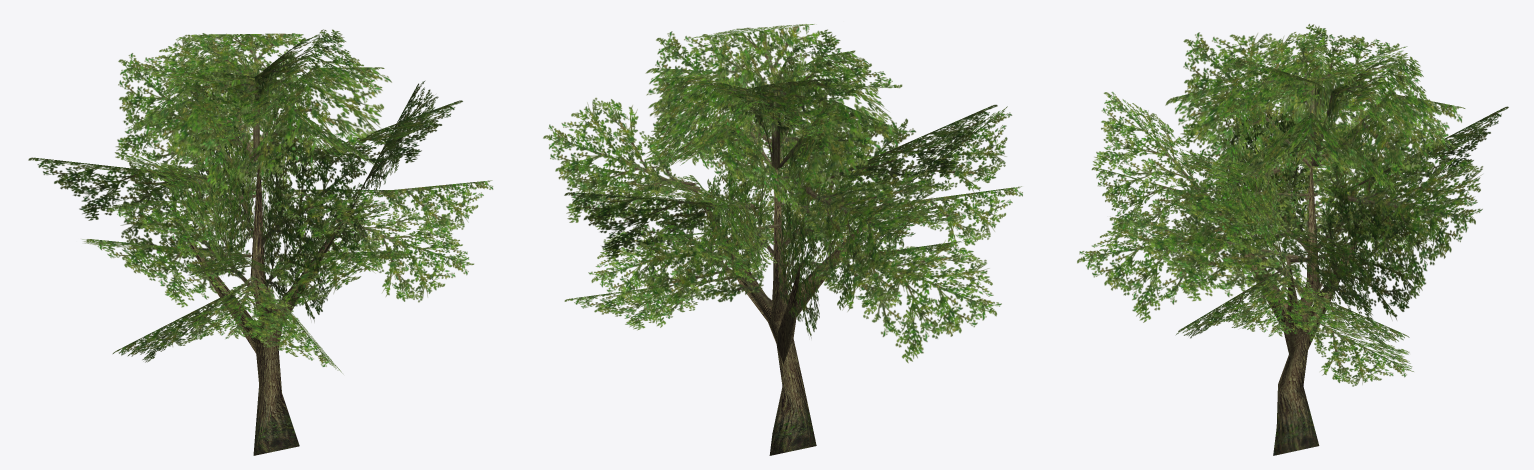
The model's file is ti_tree_02.glb.
3 views of the same model, side by side, from view 1: azimuth 30°, elevation 25°; view 2: azimuth 150°, elevation 25°; view 3: azimuth 270°, elevation 25° (orthographic). The views are drawn at different scales.
Visible parts, largest first — view 1: TI_Tree_02; view 2: TI_Tree_02; view 3: TI_Tree_02.
Part boxes in pixels (left/top/right/bottom): TI_Tree_02: left=28, top=29, right=493, bottom=455; TI_Tree_02: left=543, top=24, right=1022, bottom=455; TI_Tree_02: left=1077, top=24, right=1508, bottom=455.
Size of the model in its own units: 8.52 by 7.52 by 7.93.
3 materials, 3 textured.
